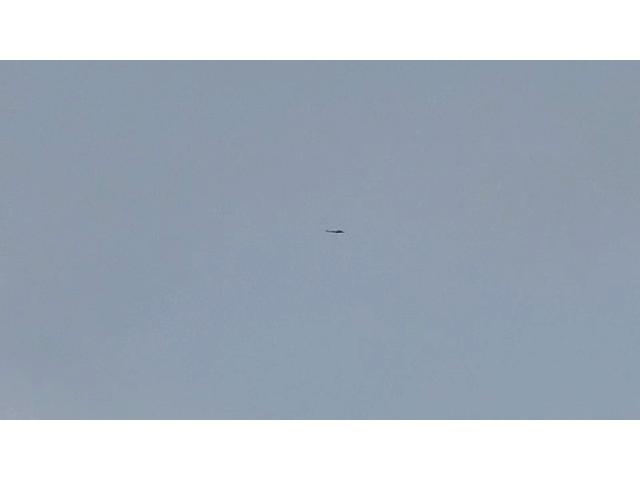Anti-Drone: (323, 225, 347, 237)
